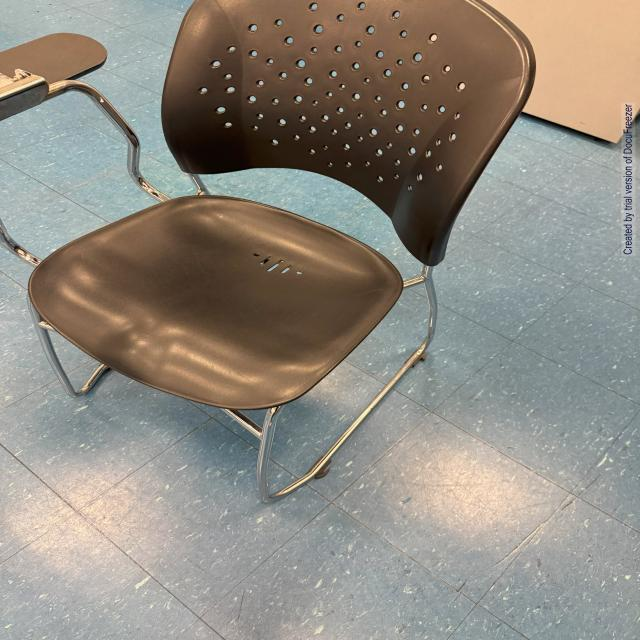chair: (8, 2, 516, 510)
